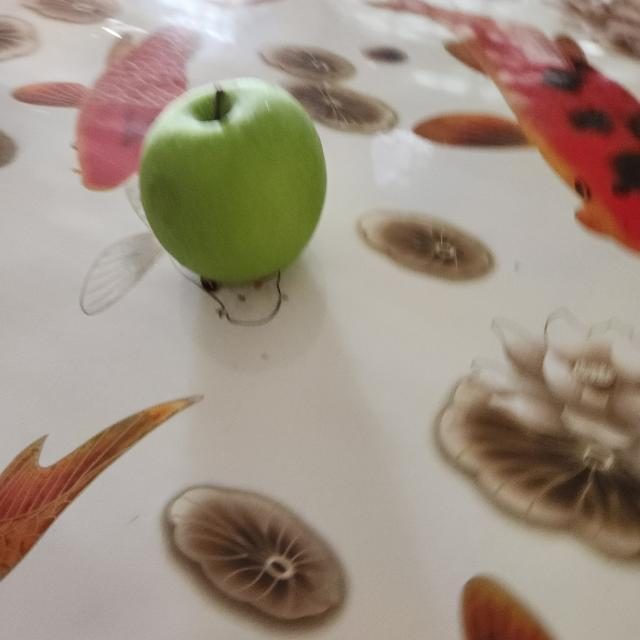apple: (133, 68, 330, 293)
